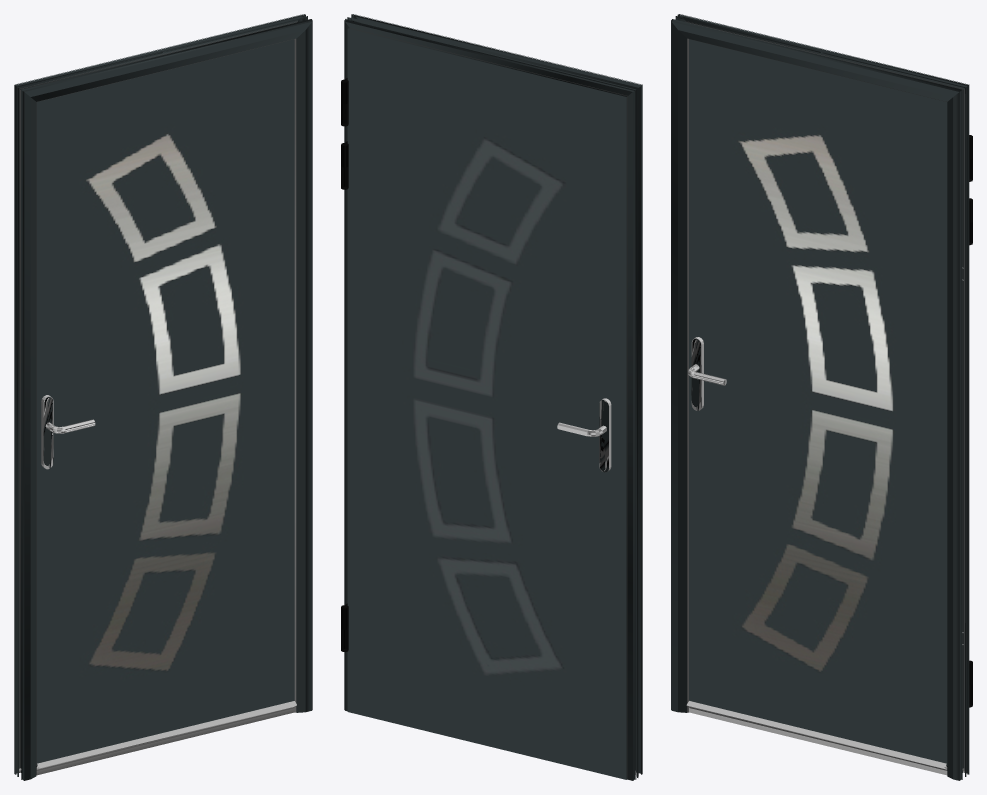
3 renders of one model, left to right at view 1: azimuth 30°, elevation 25°; view 2: azimuth 150°, elevation 25°; view 3: azimuth 330°, elevation 25°, orthographic.
Parts seen in each view (by area): view 1: ouvrant, 50, puxador; view 2: ouvrant, 50, puxador; view 3: ouvrant, 50, puxador.
Part boxes in pixels (bbox=[...]): ouvrant: bbox=[19, 21, 297, 770]; 50: bbox=[14, 14, 312, 780]; puxador: bbox=[41, 395, 53, 469]; ouvrant: bbox=[341, 28, 627, 779]; 50: bbox=[341, 14, 642, 780]; puxador: bbox=[599, 398, 611, 472]; ouvrant: bbox=[685, 21, 972, 770]; 50: bbox=[671, 14, 972, 780]; puxador: bbox=[691, 337, 703, 410].
Size of the model in its own units: 96 by 218 by 19.09.
Materials: 1 (1 with a texture image).
